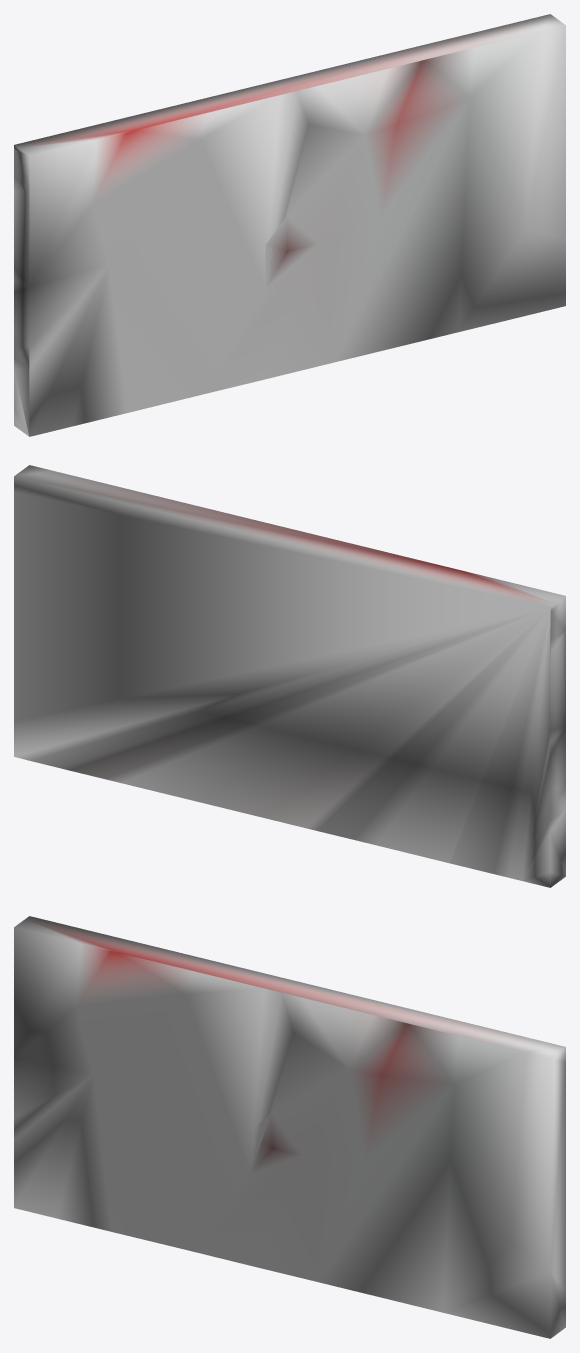
File: SM_FA_Factory_W400_H200.fbx
The picture shows the model from 3 angles, top to bottom: view 1: azimuth 30°, elevation 25°; view 2: azimuth 150°, elevation 25°; view 3: azimuth 330°, elevation 25°; orthographic projection.
Visible parts, largest first — view 1: SM_FA_Factory_W400_H200; view 2: SM_FA_Factory_W400_H200; view 3: SM_FA_Factory_W400_H200.
Boxes of the visible parts, box(x1,y1,x2,y2) form: SM_FA_Factory_W400_H200: box(14, 14, 565, 436); SM_FA_Factory_W400_H200: box(14, 465, 565, 887); SM_FA_Factory_W400_H200: box(14, 916, 565, 1338).
Size of the model in its own units: 400 by 20 by 200.
